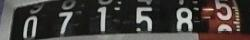digits: (88, 0, 122, 35), (175, 7, 193, 30), (135, 6, 152, 30), (214, 0, 232, 20), (22, 15, 37, 38), (58, 11, 73, 33)
